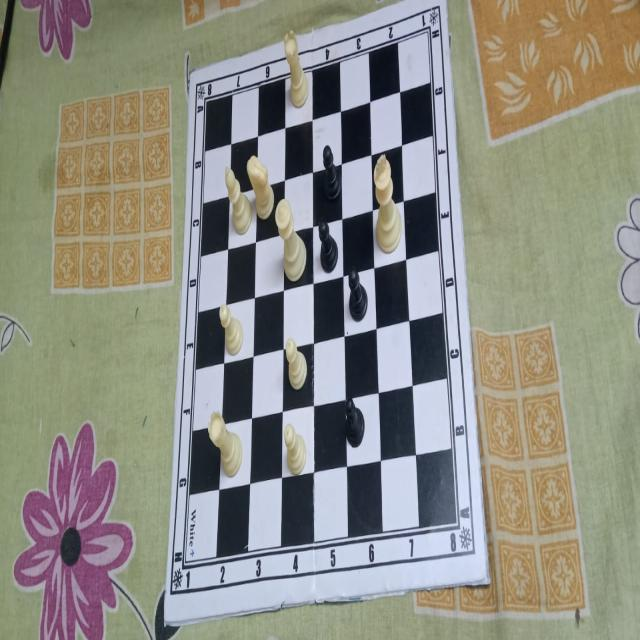corners: (184, 66, 200, 87), (481, 566, 495, 589), (160, 607, 172, 632)
